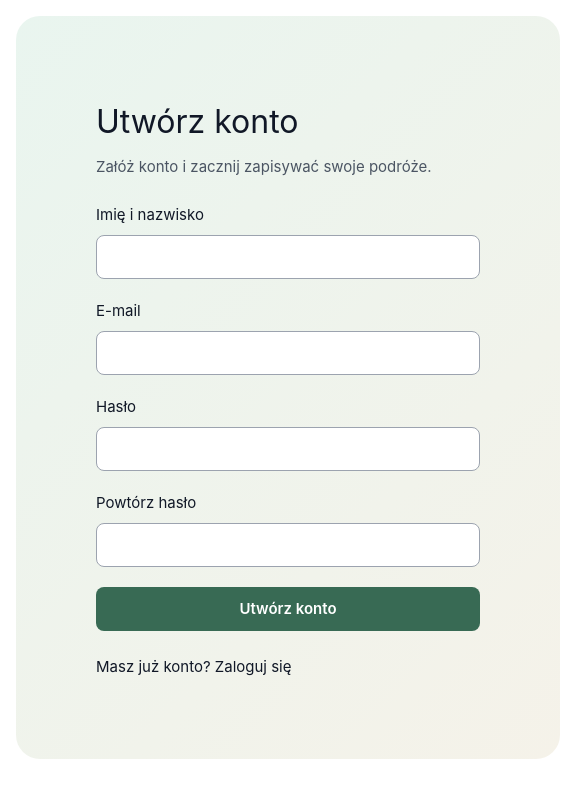
RegisterView › shows API validation errors on the matching field
Type "Ala Kowalska" into the field with id "name" at (288, 257), box [96,235,480,279]
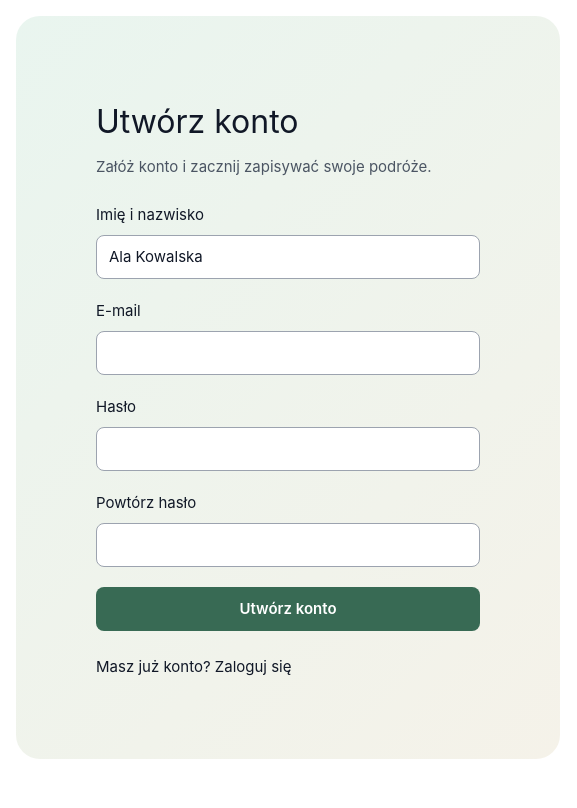
Type "ala@example.com" into the field with id "email" at (288, 353), box [96,331,480,375]
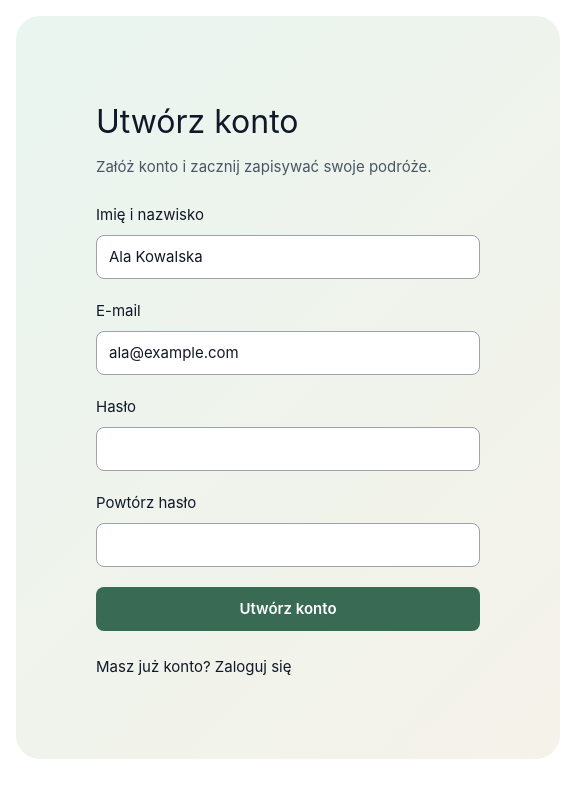
Type "Secret123!" into the password field labelled "Hasło" at (288, 449), box [96,427,480,471]
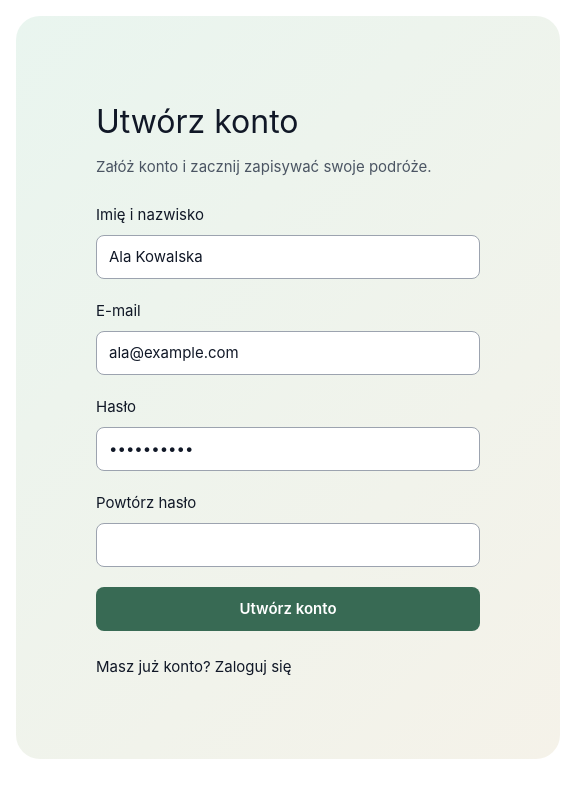
Type "Secret123!" into the password field labelled "Powtórz hasło" at (288, 545), box [96,523,480,567]
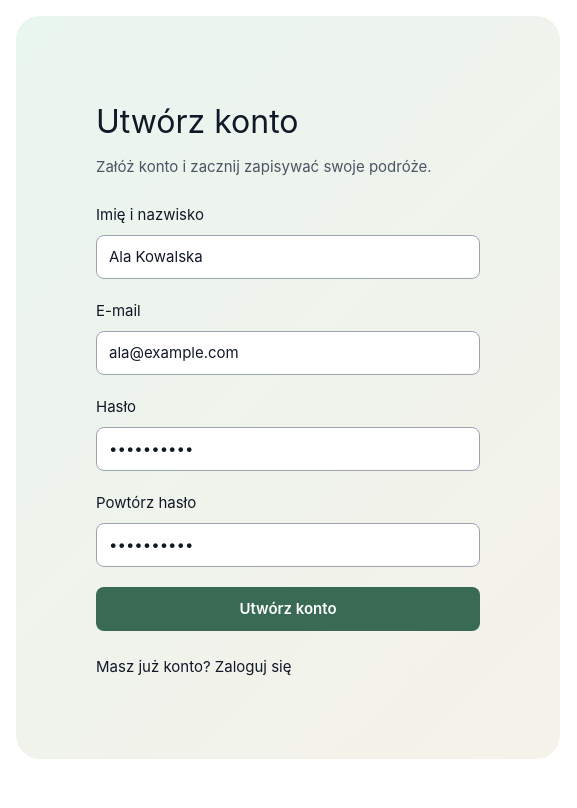
Submit the form, box [96,203,480,631]
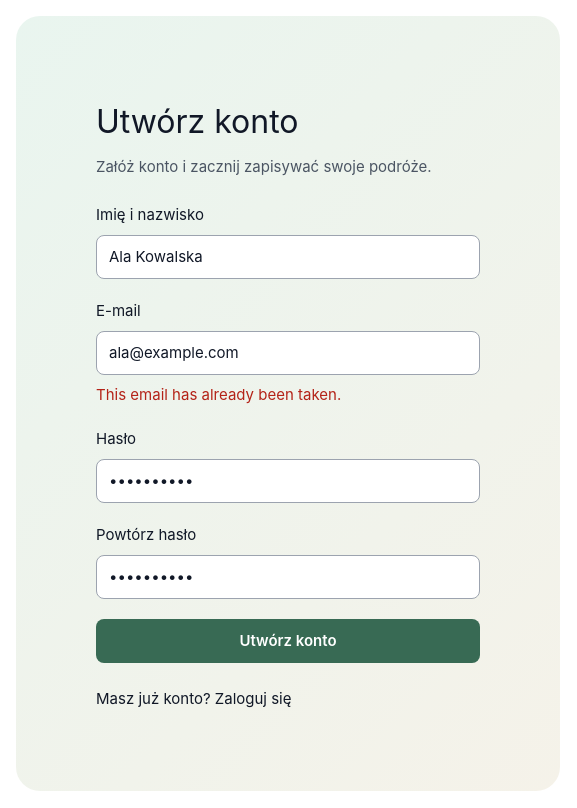
Check: the text "This email has already been taken." is shown, box [96,385,341,404]
